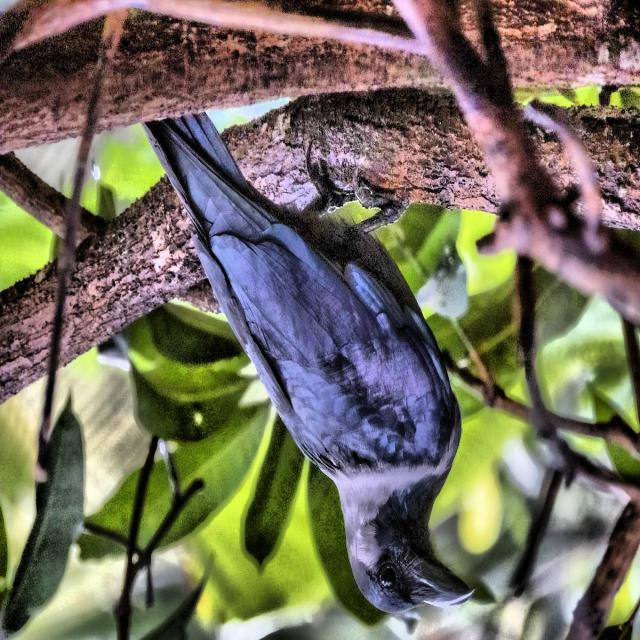crow: (116, 97, 546, 640)
